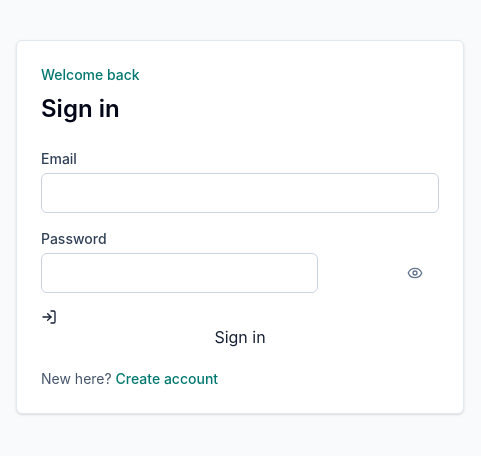
Test: auth pages › validates the login form before submit
Click the button "Sign in". click: click(240, 329)
box: [41,309,439,349]
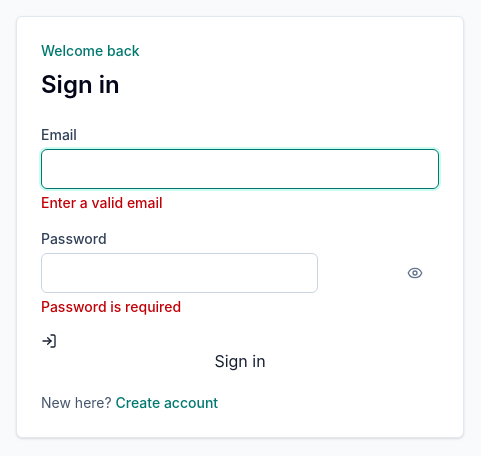
Result: the text "Enter a valid email" is shown at [41,194,163,211]
Result: the text "Password is required" is shown at [41,298,181,315]
